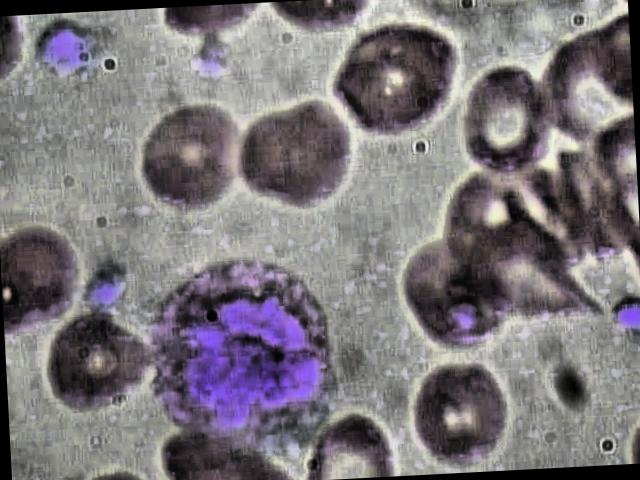Platelets: (32, 19, 102, 84), (80, 262, 129, 318), (190, 35, 230, 78), (612, 294, 640, 344)
RBC: (324, 20, 464, 144), (128, 98, 250, 220), (234, 92, 356, 214), (397, 234, 518, 356), (404, 352, 524, 474), (42, 314, 158, 416), (456, 64, 556, 182), (0, 218, 77, 336), (302, 408, 397, 480)
WBC: (141, 249, 351, 462)
